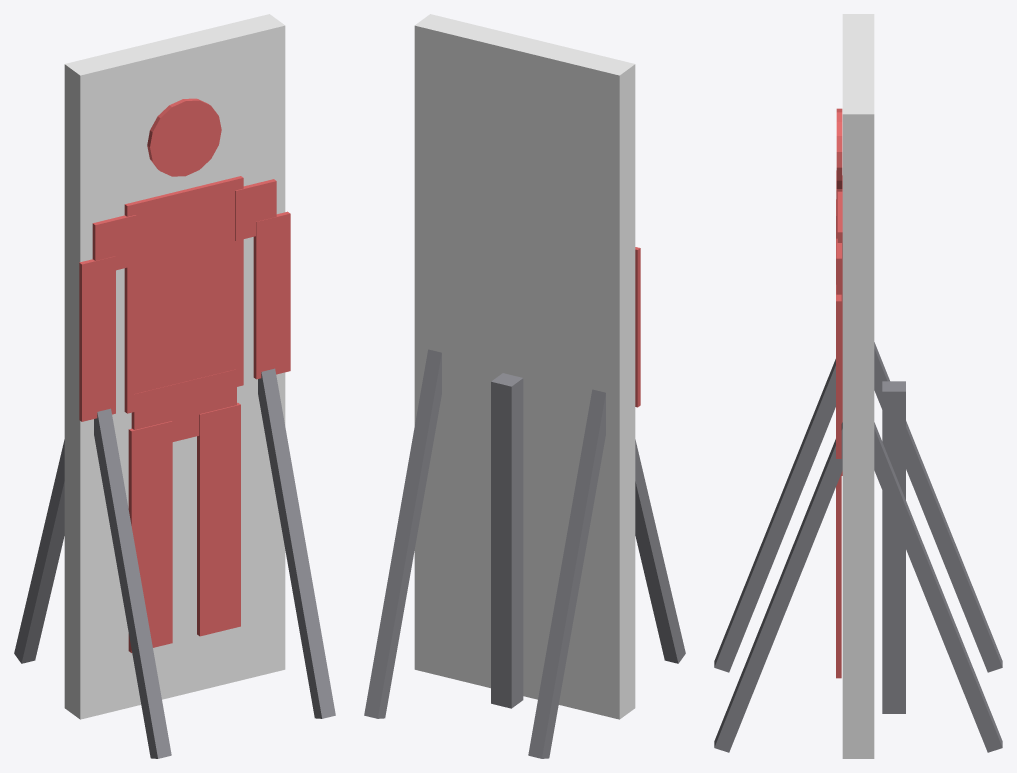
File: target_humanoid.glb
The picture shows the model from 3 angles, left to right: view 1: azimuth 30°, elevation 25°; view 2: azimuth 150°, elevation 25°; view 3: azimuth 270°, elevation 25°; orthographic projection.
Visible parts, largest first — view 1: Board, Torso, LegR, LegL, LegFrontR, LegFrontL, ArmR, ArmL, Head, Hips, LegBackL, ShoulderL (+1 smaller); view 2: Board, CenterPost, LegBackR, LegBackL, LegFrontL, ArmL; view 3: Board, CenterPost, LegBackR, LegFrontR, LegFrontL, LegBackL, LegR, ArmR, Torso, Head.
Part boxes in pixels (x1=…): Board: x1=64, y1=14, x2=285, y2=719; Torso: x1=124, y1=176, x2=243, y2=413; LegR: x1=197, y1=402, x2=240, y2=636; LegL: x1=128, y1=421, x2=172, y2=652; LegFrontR: x1=258, y1=368, x2=335, y2=718; LegFrontL: x1=94, y1=408, x2=171, y2=758; ArmR: x1=253, y1=211, x2=290, y2=379; ArmL: x1=79, y1=256, x2=115, y2=421; Head: x1=147, y1=98, x2=221, y2=176; Hips: x1=131, y1=369, x2=236, y2=441; LegBackL: x1=14, y1=439, x2=64, y2=663; ShoulderL: x1=92, y1=215, x2=136, y2=270; Board: x1=414, y1=14, x2=635, y2=719; CenterPost: x1=491, y1=373, x2=523, y2=708; LegBackR: x1=364, y1=349, x2=441, y2=718; LegBackL: x1=528, y1=389, x2=605, y2=758; LegFrontL: x1=635, y1=439, x2=685, y2=663; ArmL: x1=635, y1=247, x2=640, y2=407; Board: x1=842, y1=14, x2=874, y2=758; CenterPost: x1=882, y1=381, x2=905, y2=713; LegBackR: x1=874, y1=422, x2=1002, y2=752; LegFrontR: x1=714, y1=422, x2=842, y2=752; LegFrontL: x1=714, y1=359, x2=835, y2=672; LegBackL: x1=874, y1=342, x2=1002, y2=672; LegR: x1=836, y1=473, x2=841, y2=678; ArmR: x1=836, y1=285, x2=841, y2=458; Torso: x1=837, y1=175, x2=842, y2=423; Head: x1=836, y1=108, x2=842, y2=191.
Size of the model in its own units: 0.61 by 1.8 by 0.7296.
